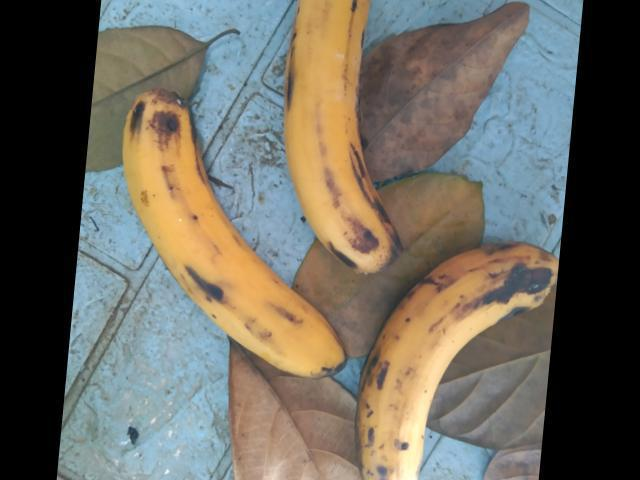overripe: (349, 240, 580, 479)
ripe: (120, 82, 355, 401), (266, 0, 417, 292)
